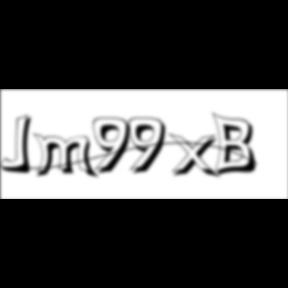9: (92, 117, 138, 177), (128, 117, 174, 177)
B: (213, 111, 263, 179)
J: (0, 114, 38, 176)
m: (33, 132, 101, 181)
x: (168, 132, 224, 181)
